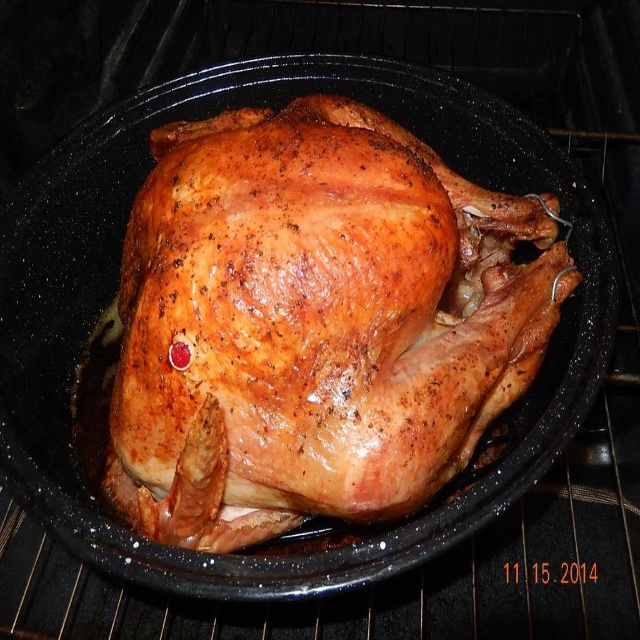Chicken: (100, 94, 583, 555)
